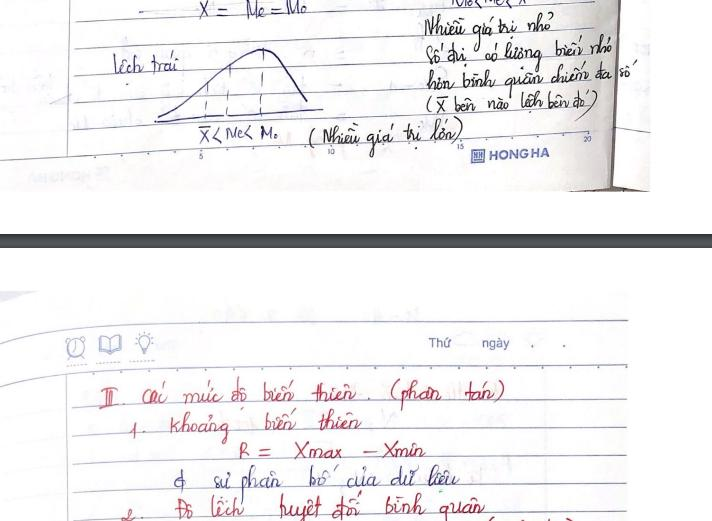text: (96, 374, 508, 415), (171, 462, 462, 505), (171, 491, 488, 520), (424, 57, 642, 99), (127, 407, 364, 445), (423, 31, 613, 73), (306, 114, 464, 161), (423, 87, 599, 121), (421, 8, 556, 52), (235, 439, 429, 464), (111, 47, 181, 87), (196, 0, 309, 23), (197, 122, 278, 146), (487, 144, 552, 162), (449, 0, 529, 11), (479, 336, 512, 353), (427, 334, 452, 350), (120, 505, 144, 521)
